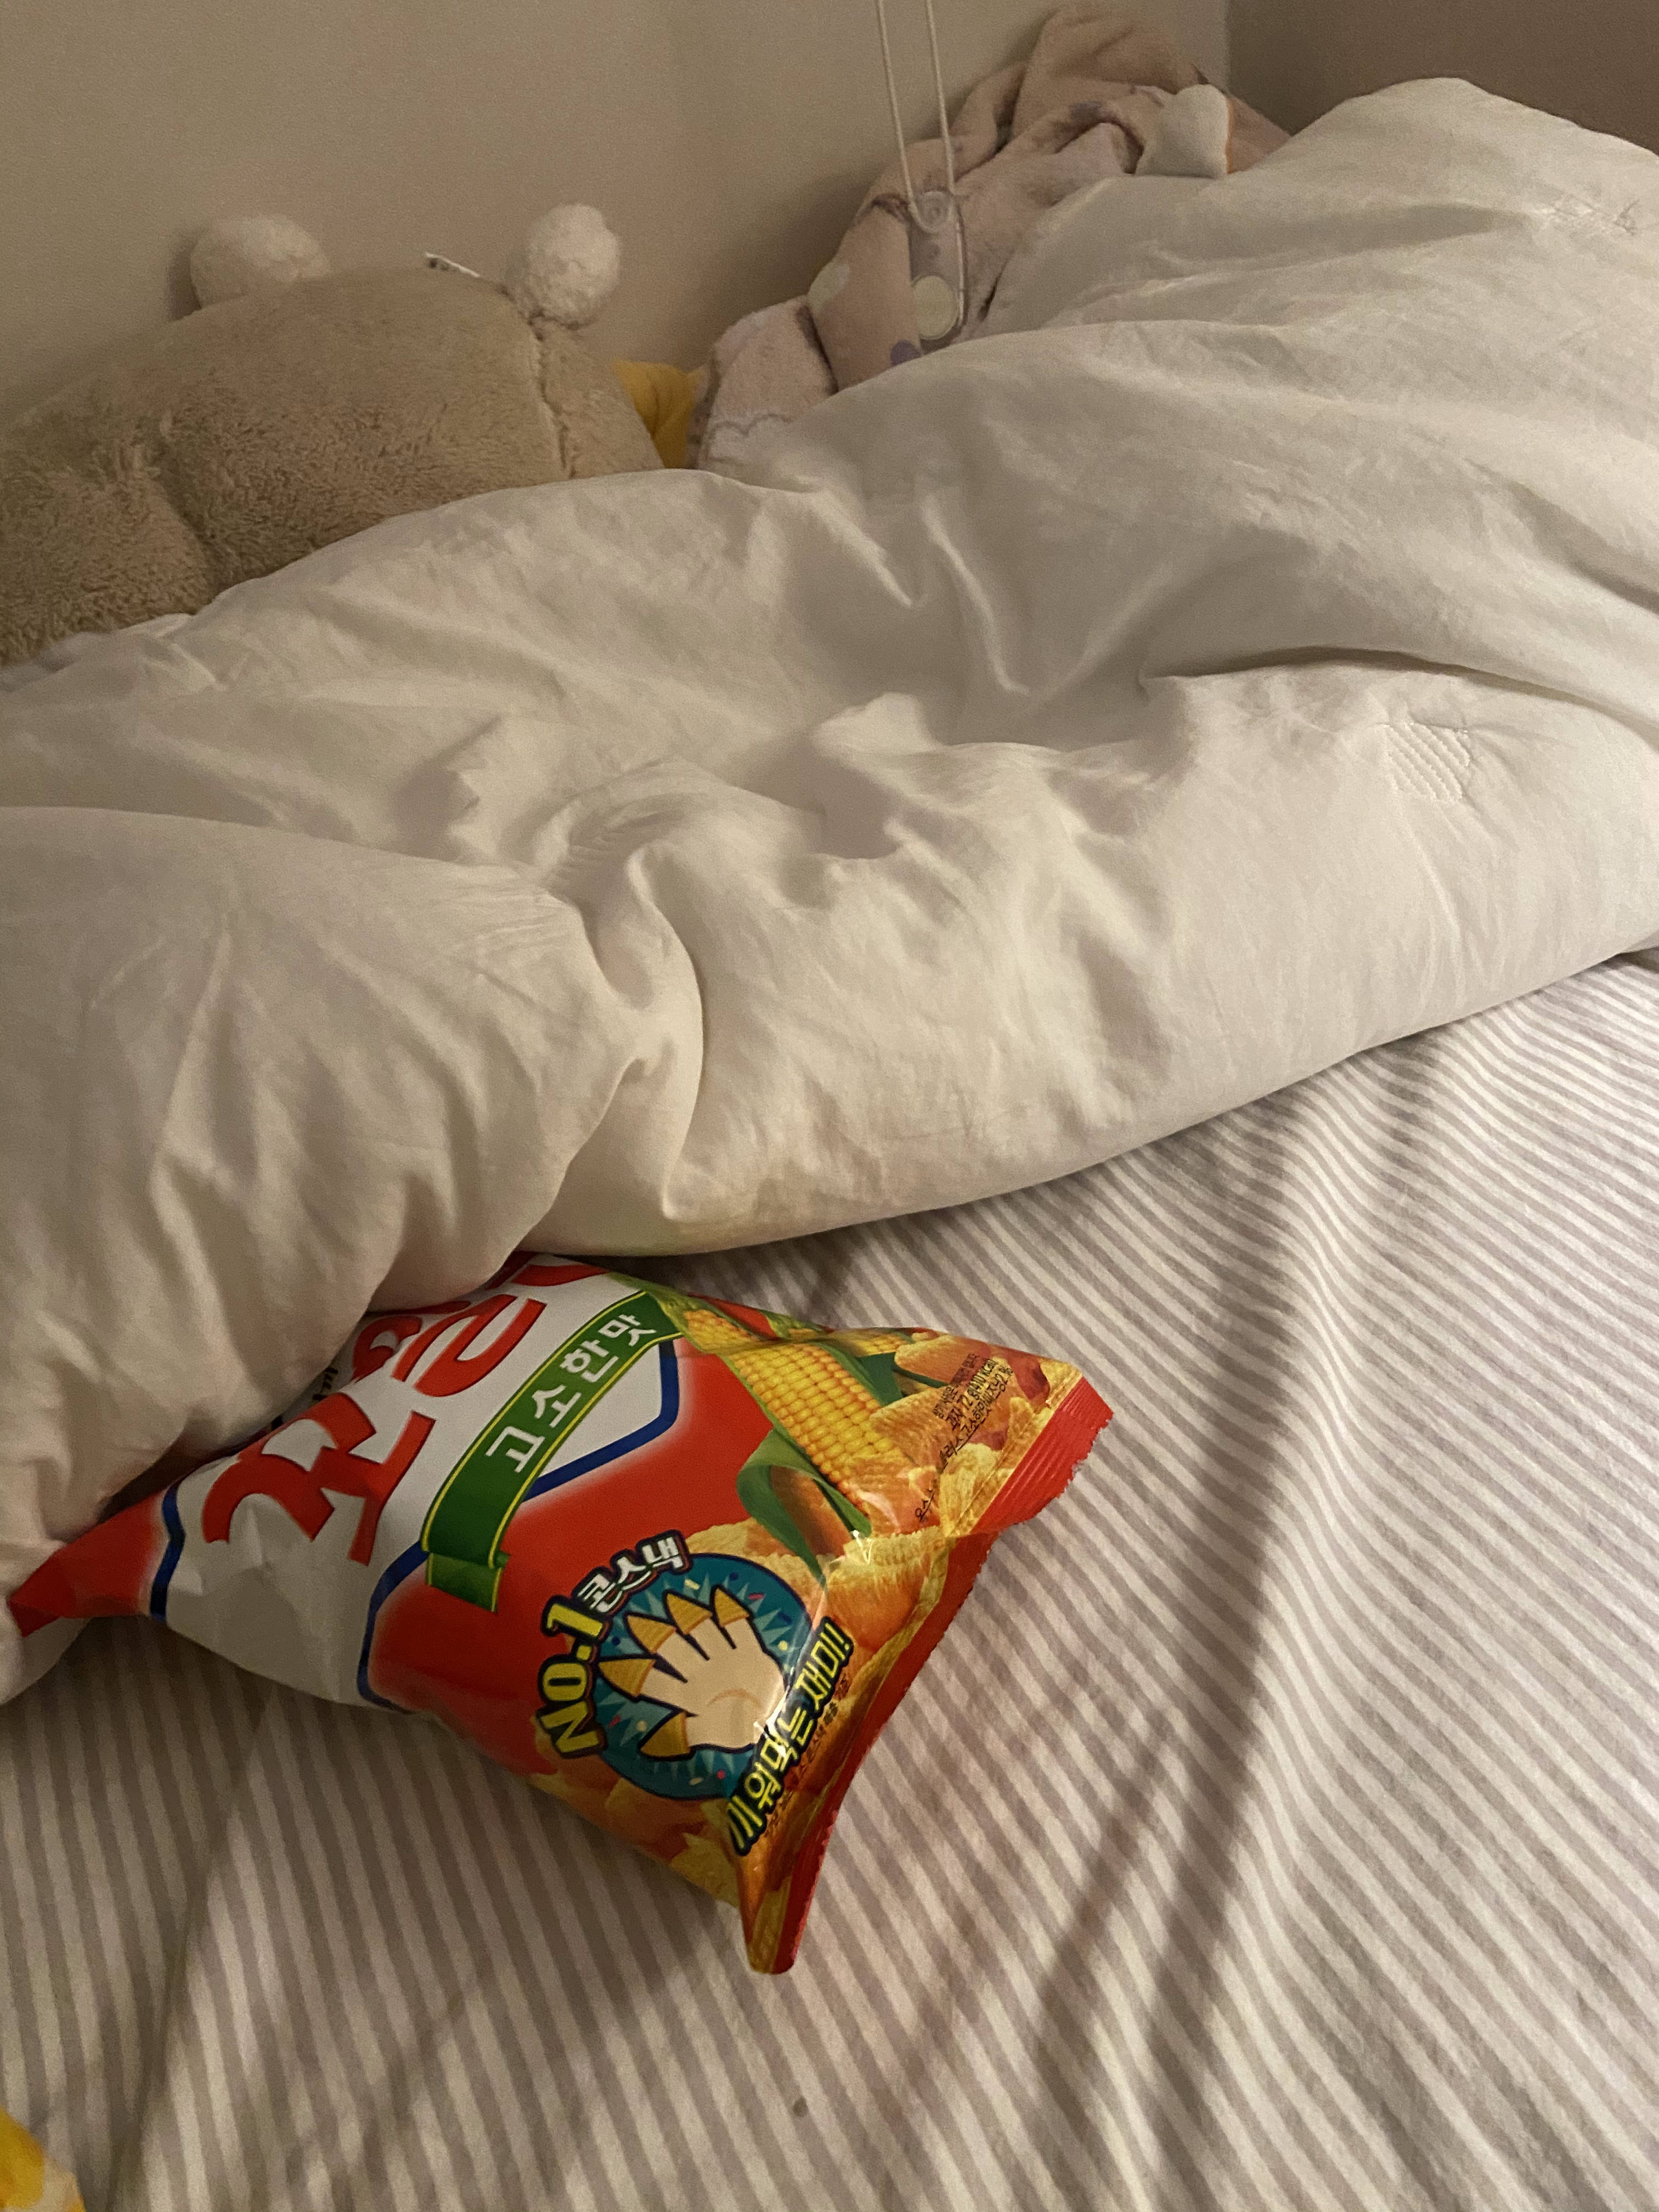ggoggalcon: (0, 1216, 1134, 1993)
